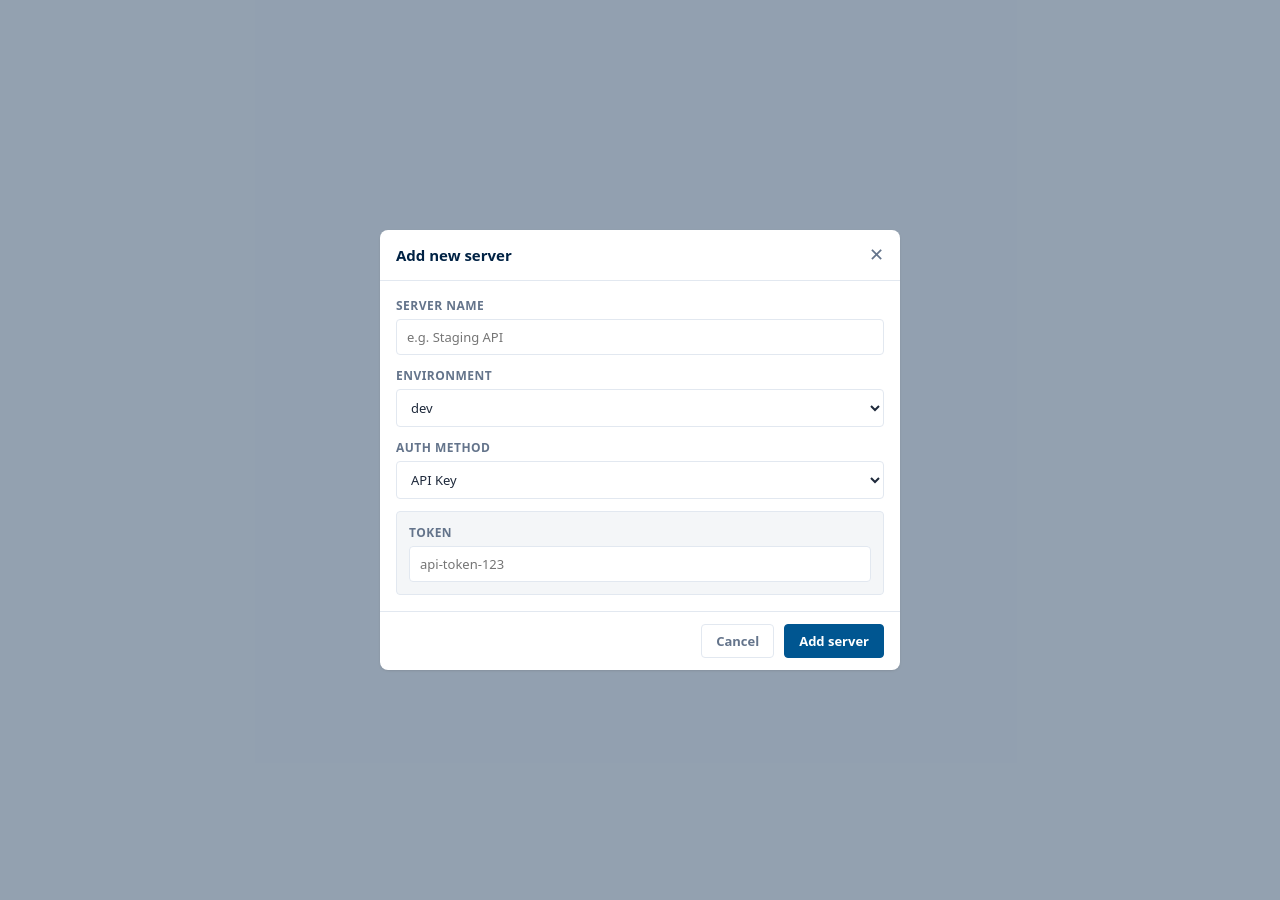
Test: AddServerModal › shows a role=alert error when creation rejects and does not close
Type "Bad Box" into the field labelled "Server name" at point(640, 337), box [396,319,884,355]
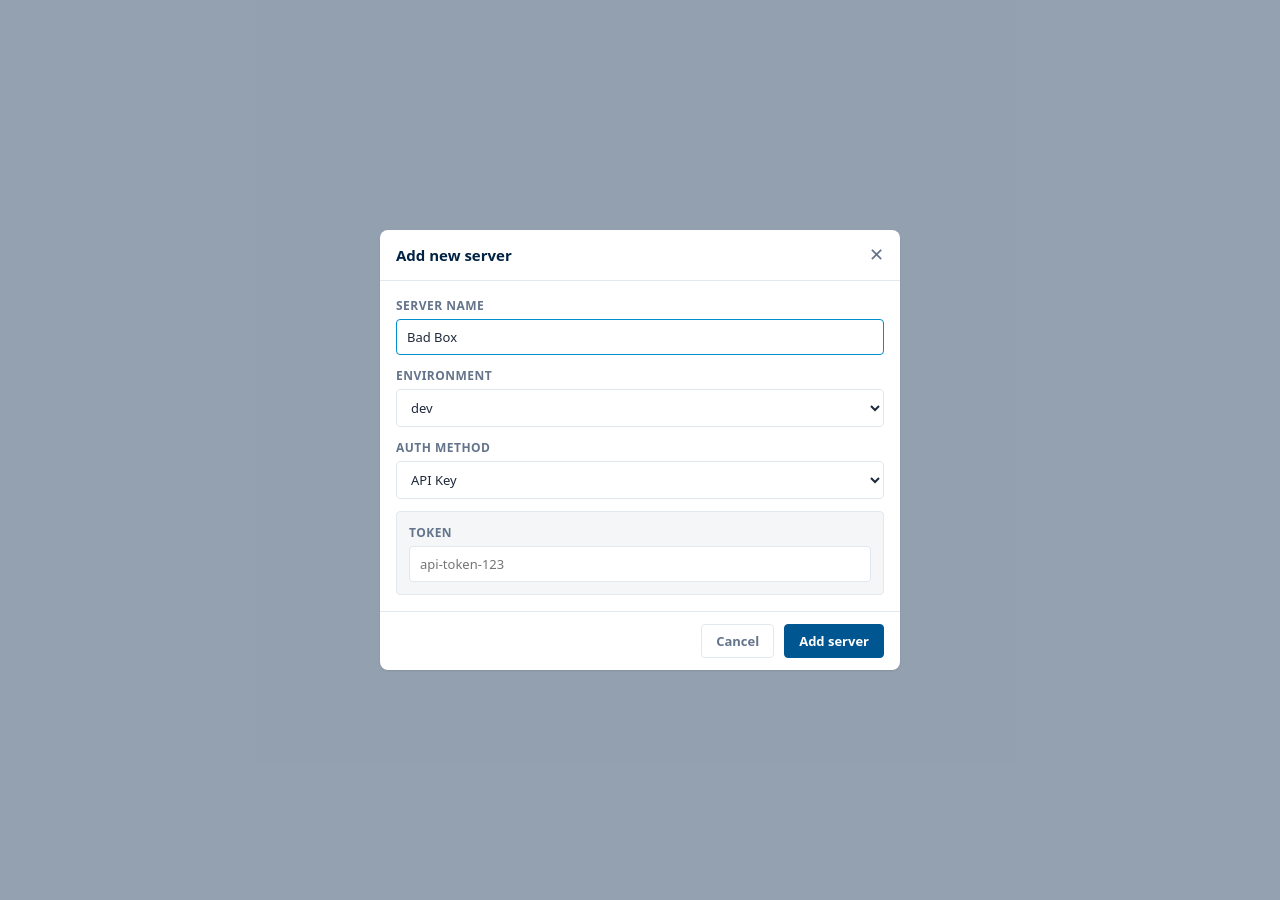
Click the button "Add server" at point(834, 641), box [784,624,884,658]
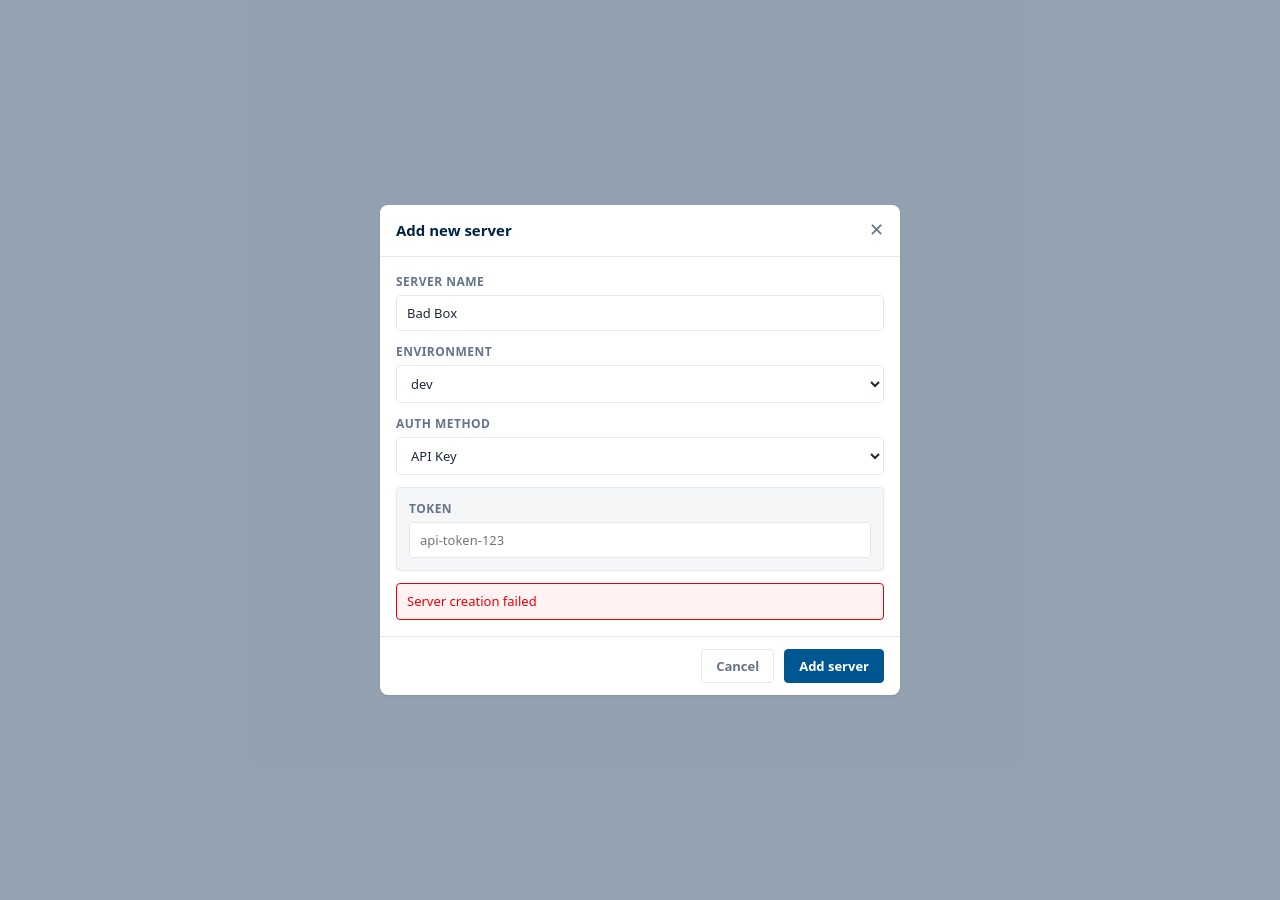
Expected: the message reads "Server creation failed", [407,592,537,610]
